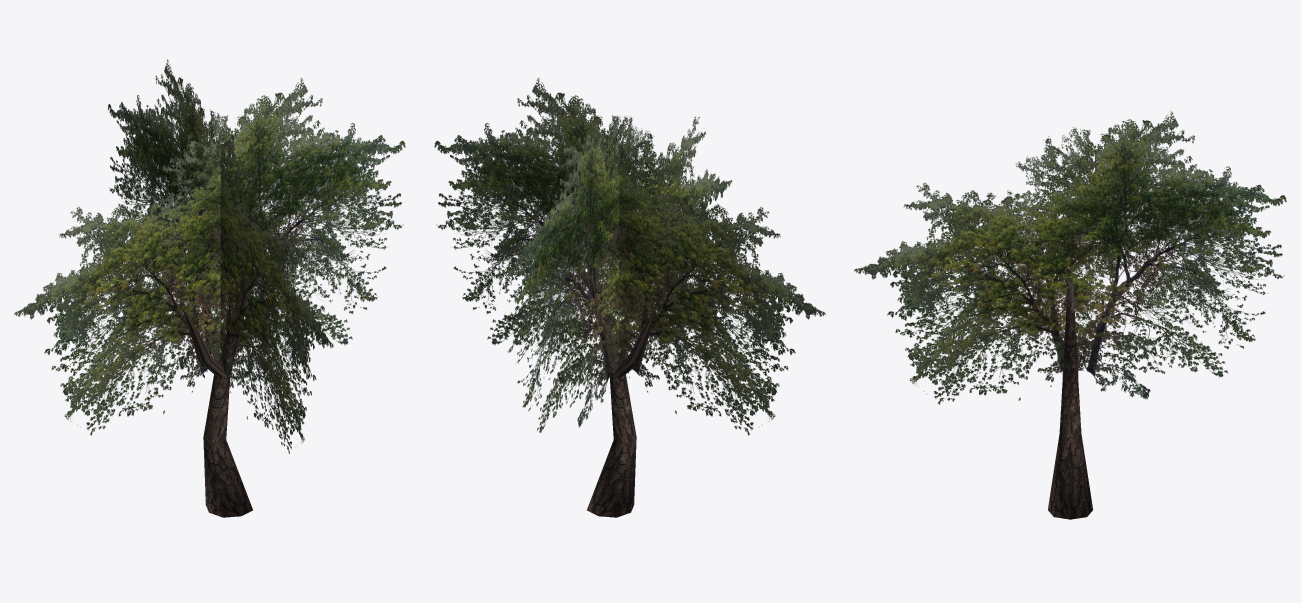
The model's file is tree3.glb.
3 renders of one model, left to right at view 1: azimuth 30°, elevation 25°; view 2: azimuth 150°, elevation 25°; view 3: azimuth 270°, elevation 25°, orthographic. The views are drawn at different scales.
Visible parts, largest first — view 1: tree3; view 2: tree3; view 3: tree3.
Part boxes in pixels (x1=…): tree3: x1=14, y1=59, x2=405, y2=517; tree3: x1=434, y1=78, x2=825, y2=517; tree3: x1=854, y1=111, x2=1286, y2=519.
Bounding box in the file's own units: 1 × 1.01 × 1.
Materials: 2 (2 with a texture image).
